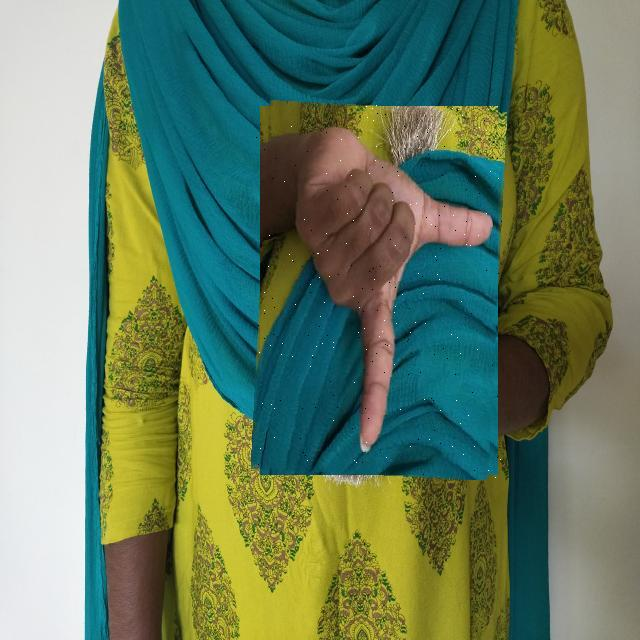L: (256, 103, 502, 478)
